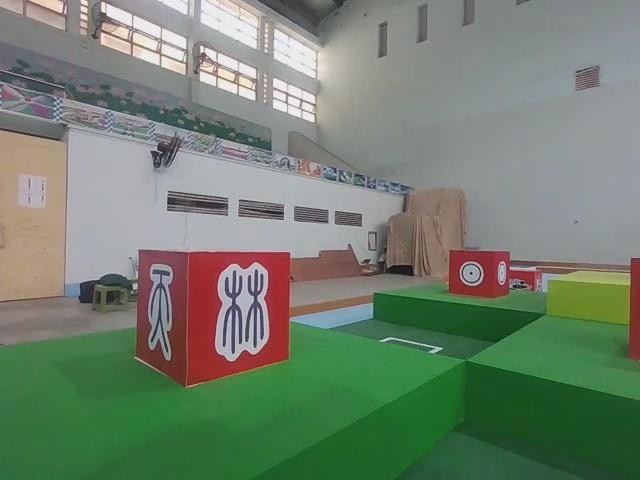R1: (505, 264, 545, 302)
R2 Fake: (132, 244, 294, 390)
R2 Real: (447, 246, 512, 298)
